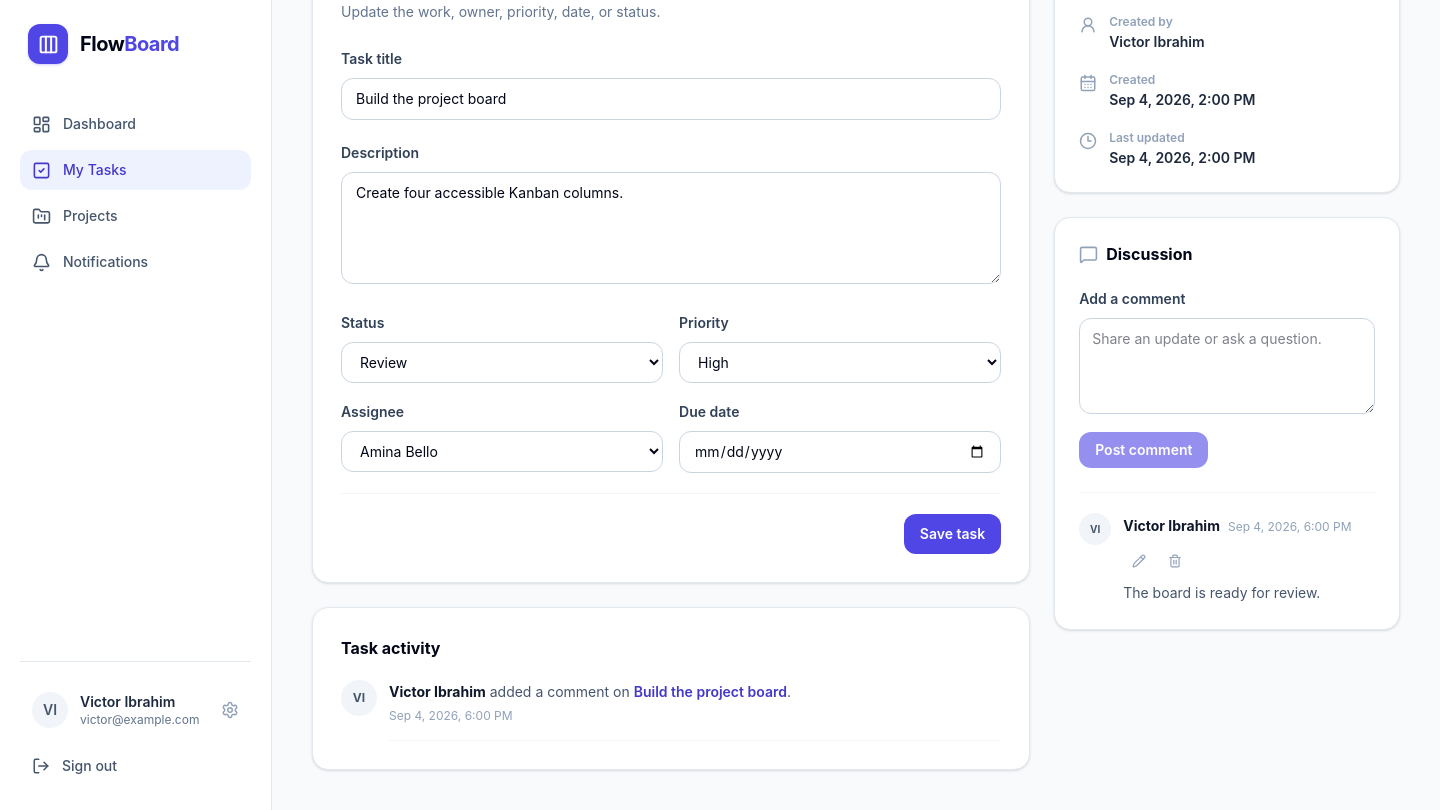
Test: FlowBoard comments and activity UI › confirms and deletes the signed-in user's own comment
The width and height of the screenshot is (1440, 810).
(page scrolled)
What coordinates should you click on to do the following:
click the button named "Delete comment by Victor Ibrahim"
I would click on:
 (1175, 561)
Its box is [1159,545,1191,577].
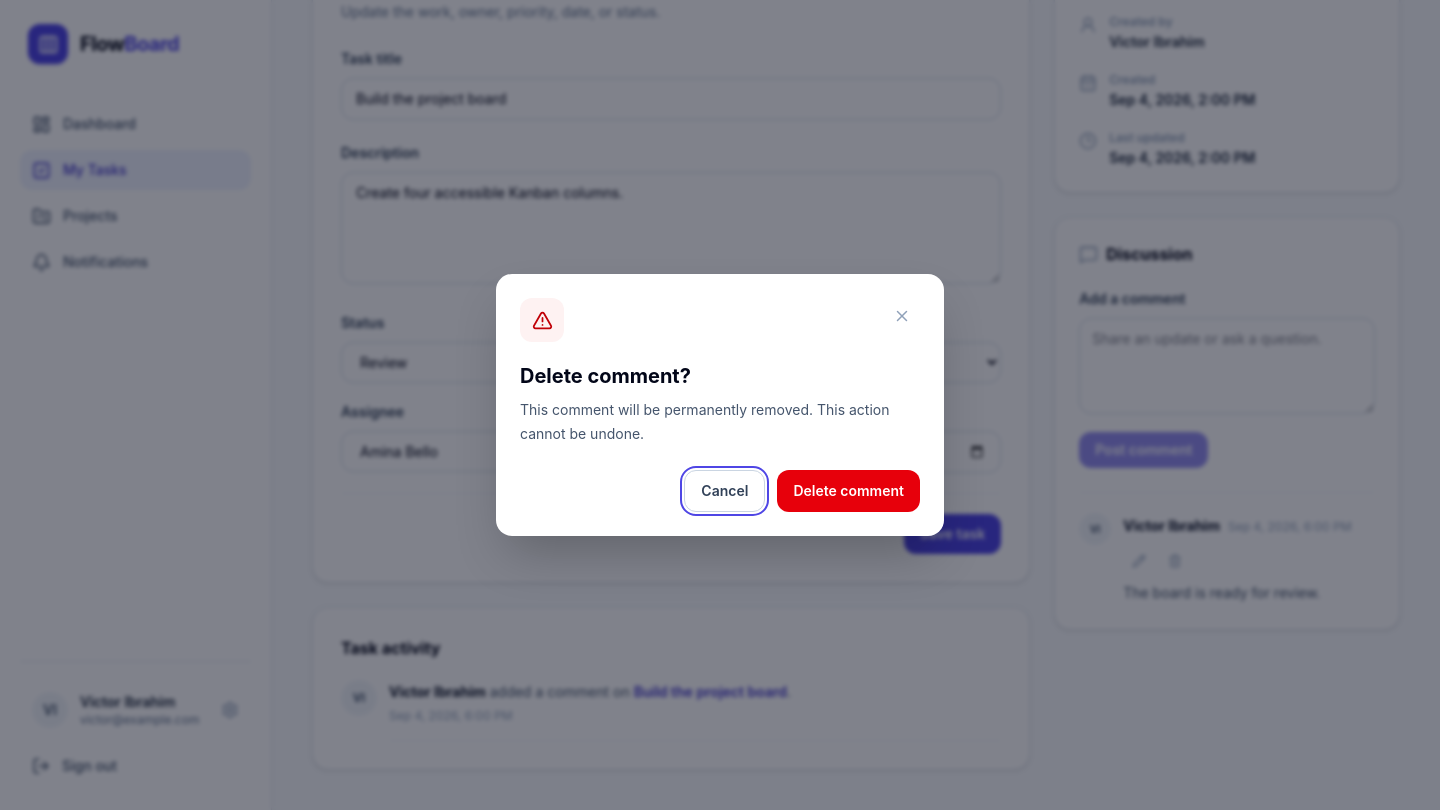
Expected: the dialog "Delete comment?" is shown, [496,274,944,536]
What coordinates should you click on to do the following:
click the button "Delete comment"
I would click on:
 (849, 491)
Its box is [777,470,920,512].
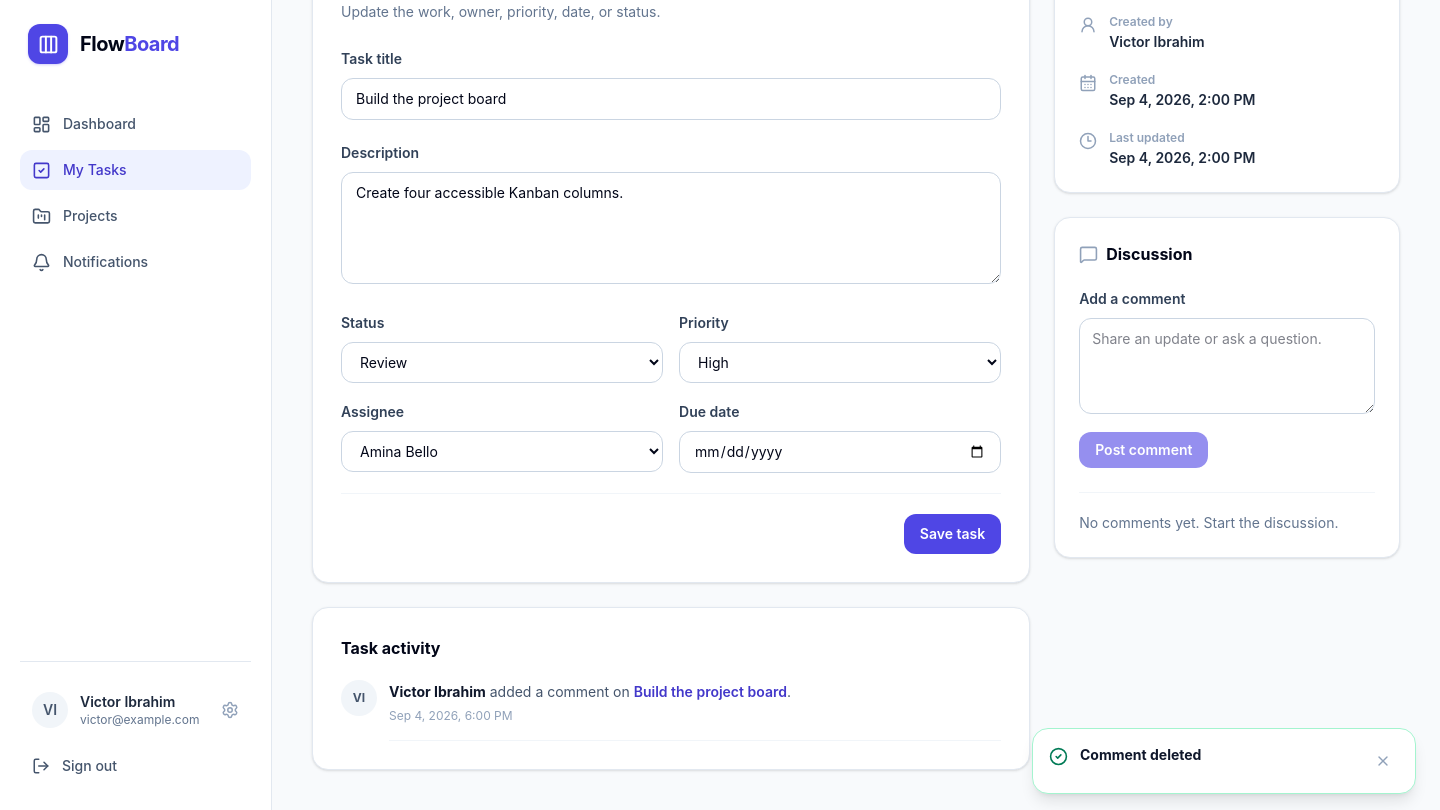
Expected: the text "The board is ready for review." is gone
